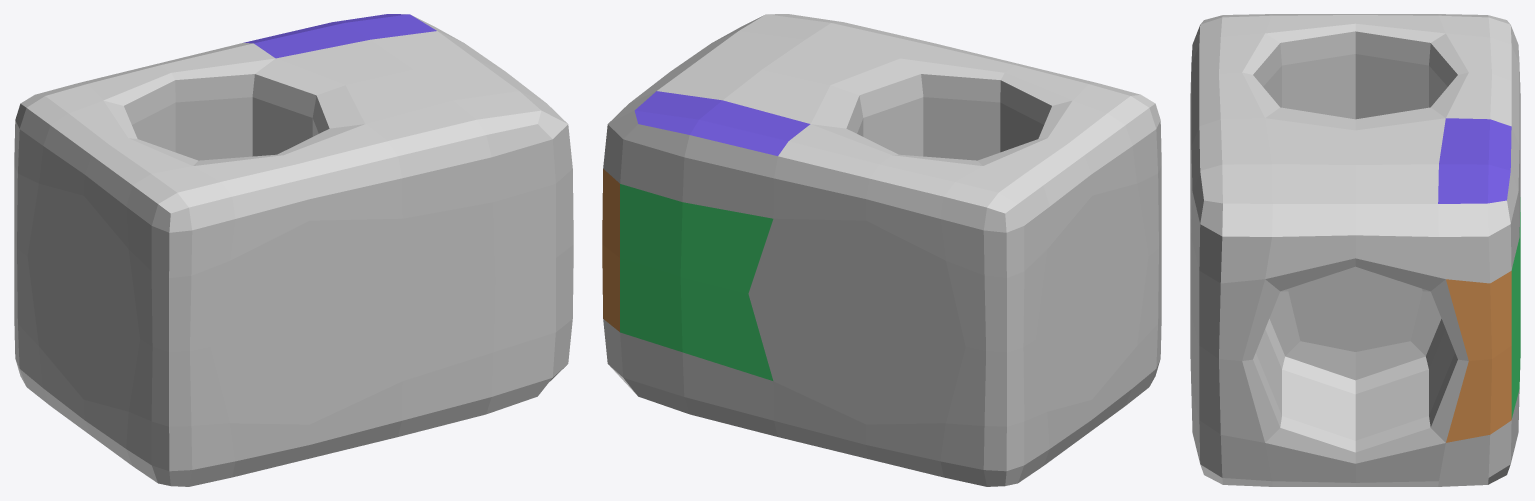
The picture shows the model from 3 angles, left to right: view 1: azimuth 30°, elevation 25°; view 2: azimuth 150°, elevation 25°; view 3: azimuth 270°, elevation 25°; orthographic projection.
Visible parts, largest first — view 1: Base3; view 2: Base3; view 3: Base3.
Boxes of the visible parts, bbox=[...] form: Base3: bbox=[14, 14, 573, 486]; Base3: bbox=[602, 14, 1161, 486]; Base3: bbox=[1190, 14, 1520, 486].
Bounding box in the file's own units: 1.5 × 1 × 1.
